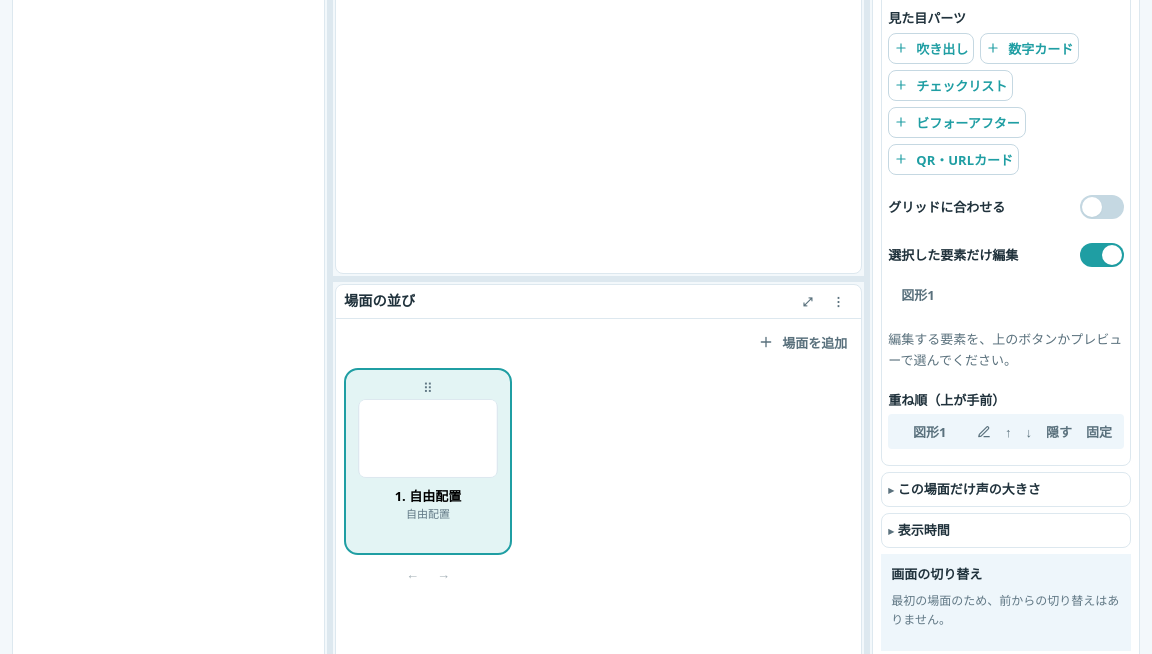
場面形式の「動きの感じ」：選択肢に無い動き方（PR #1368） › 止める（hold）は欄を押せなくし、タイムライン編集で直すよう言う
The image size is (1152, 654).
(page scrolled)
Click the 1st button "図形1" at (918, 294), box [888,279,948,310]
(page scrolled)
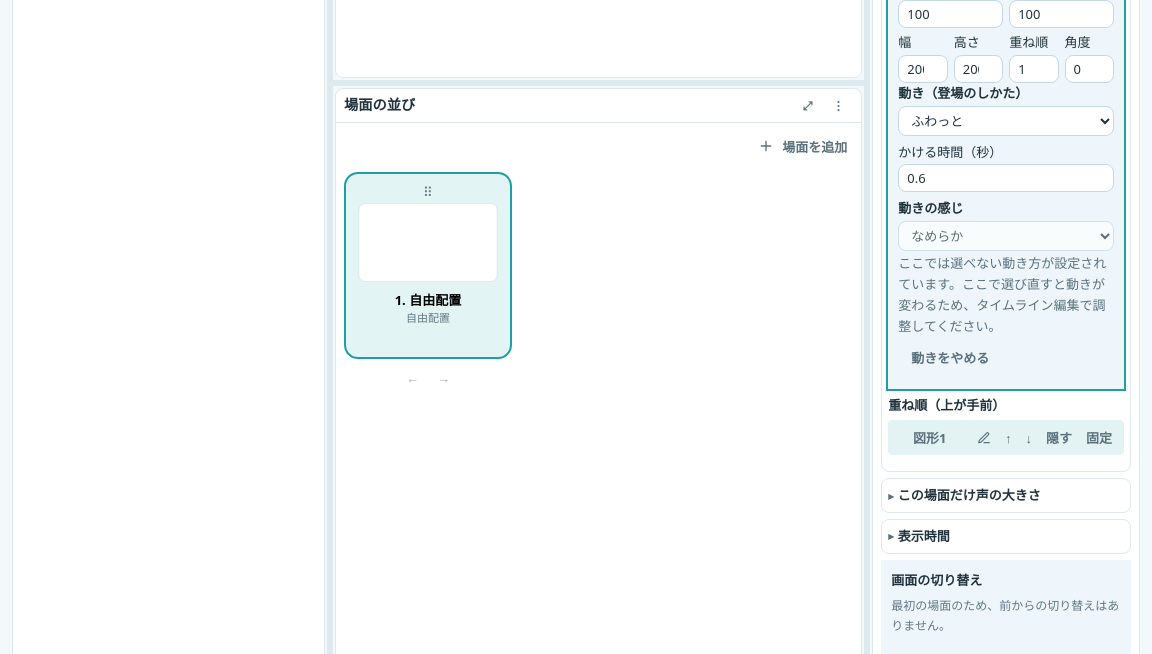
Now the dropdown below "動きの感じ" is disabled, box [898,221,1114,251]
Now the text "ここでは選べない動き方が設定されています。ここで選び直すと動きが変わるため、タイムライン編集で調整してください。" is shown, box [898,253,1114,336]
